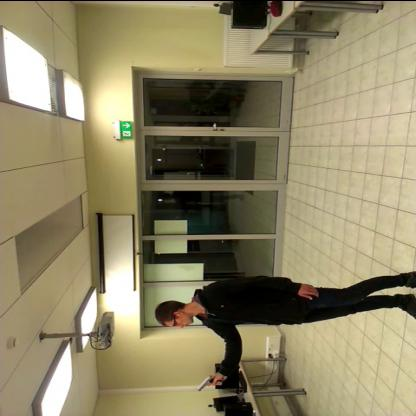Pistol: (192, 372, 226, 392)
